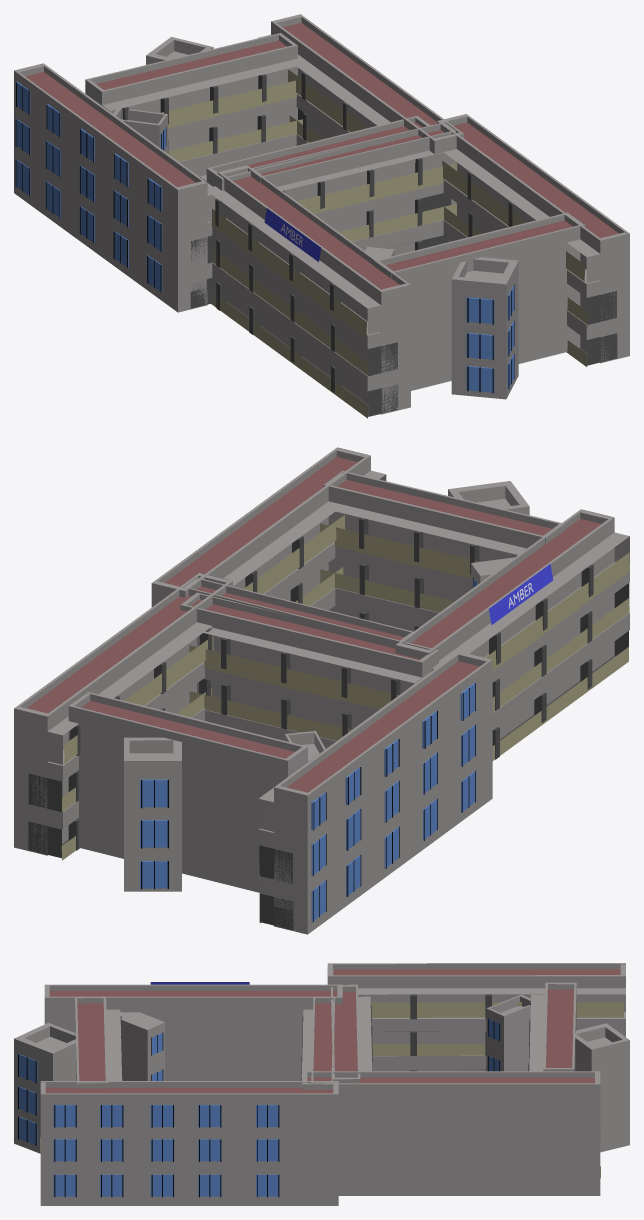
The model's file is amber.glb.
3 views of the same model, one above another, from view 1: azimuth 30°, elevation 25°; view 2: azimuth 150°, elevation 25°; view 3: azimuth 270°, elevation 25° (orthographic). The views are drawn at different scales.
Visible parts, largest first — view 1: Cube.201, Cube.001, Cube.013, Cube.003, Cube.008, Cube.014, Cube.007, Cube.042, Cube.012, Cube, Cube.049, Plane (+3 smaller); view 2: Cube.001, Cube.201, Cube.003, Cube.007, Cube.012, Cube.008, Cube.013, Cube.049, Cube.014, Cube.042, Plane, Cube.050 (+2 smaller); view 3: Cube.007, Cube.013, Cube.001, Cube.201, Cube.049, Cube.003, Cube.008, Cube.042, Cube.012, Cube, Cube.009, Cube.014 (+18 smaller).
Boxes of the visible parts, x1=… form: Cube.201: x1=207, y1=165, x2=410, y2=418; Cube.001: x1=14, y1=63, x2=217, y2=312; Cube.013: x1=437, y1=114, x2=629, y2=366; Cube.003: x1=85, y1=33, x2=304, y2=176; Cube.008: x1=374, y1=212, x2=585, y2=390; Cube.014: x1=249, y1=122, x2=457, y2=255; Cube.007: x1=258, y1=14, x2=464, y2=248; Cube.042: x1=451, y1=257, x2=518, y2=399; Cube.012: x1=200, y1=115, x2=430, y2=190; Cube: x1=113, y1=108, x2=167, y2=153; Cube.049: x1=146, y1=37, x2=213, y2=64; Plane: x1=264, y1=208, x2=321, y2=261; Cube.001: x1=258, y1=651, x2=492, y2=934; Cube.201: x1=395, y1=509, x2=629, y2=760; Cube.003: x1=68, y1=692, x2=316, y2=892; Cube.007: x1=14, y1=572, x2=232, y2=860; Cube.012: x1=180, y1=592, x2=438, y2=748; Cube.008: x1=319, y1=471, x2=564, y2=631; Cube.013: x1=151, y1=447, x2=386, y2=610; Cube.049: x1=124, y1=737, x2=181, y2=891; Cube.014: x1=183, y1=577, x2=416, y2=648; Cube.042: x1=448, y1=481, x2=529, y2=515; Plane: x1=489, y1=564, x2=553, y2=624; Cube.050: x1=140, y1=779, x2=169, y2=808; Cube.007: x1=302, y1=1071, x2=600, y2=1195; Cube.013: x1=40, y1=1081, x2=338, y2=1205; Cube.001: x1=327, y1=963, x2=625, y2=1071; Cube.201: x1=44, y1=984, x2=342, y2=1080; Cube.049: x1=575, y1=1023, x2=629, y2=1152; Cube.003: x1=528, y1=982, x2=576, y2=1071; Cube.008: x1=75, y1=996, x2=123, y2=1088; Cube.042: x1=14, y1=1023, x2=75, y2=1153; Cube.012: x1=330, y1=984, x2=372, y2=1083; Cube: x1=486, y1=994, x2=530, y2=1071; Cube.009: x1=120, y1=1012, x2=164, y2=1080; Cube.014: x1=301, y1=996, x2=335, y2=1083.
Bounding box in the file's own units: 24.46 × 9.99 × 48.05.
